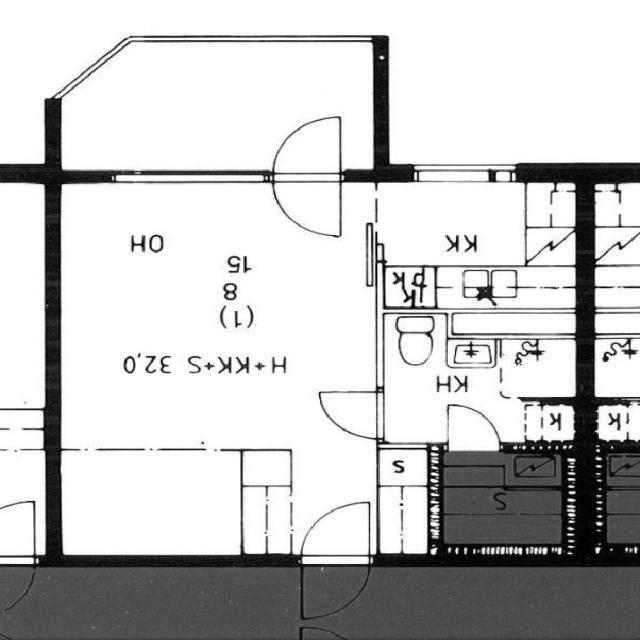door: (264, 110, 346, 240), (294, 495, 376, 575), (311, 383, 388, 440), (436, 398, 504, 453)
window: (400, 154, 523, 187)
zone: (43, 176, 374, 441), (58, 37, 383, 177), (372, 310, 584, 443), (372, 178, 569, 317), (53, 448, 257, 564), (440, 449, 576, 562), (586, 172, 640, 404), (0, 178, 52, 414), (402, 367, 522, 454), (373, 443, 443, 562), (0, 423, 49, 565)
